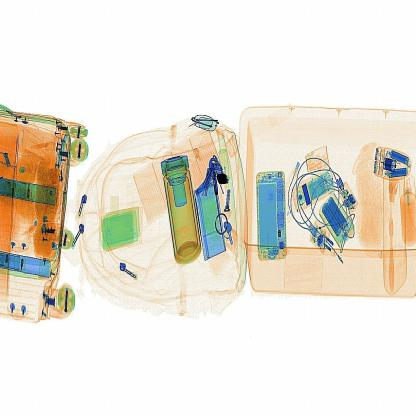scissors: (212, 166, 236, 192)
